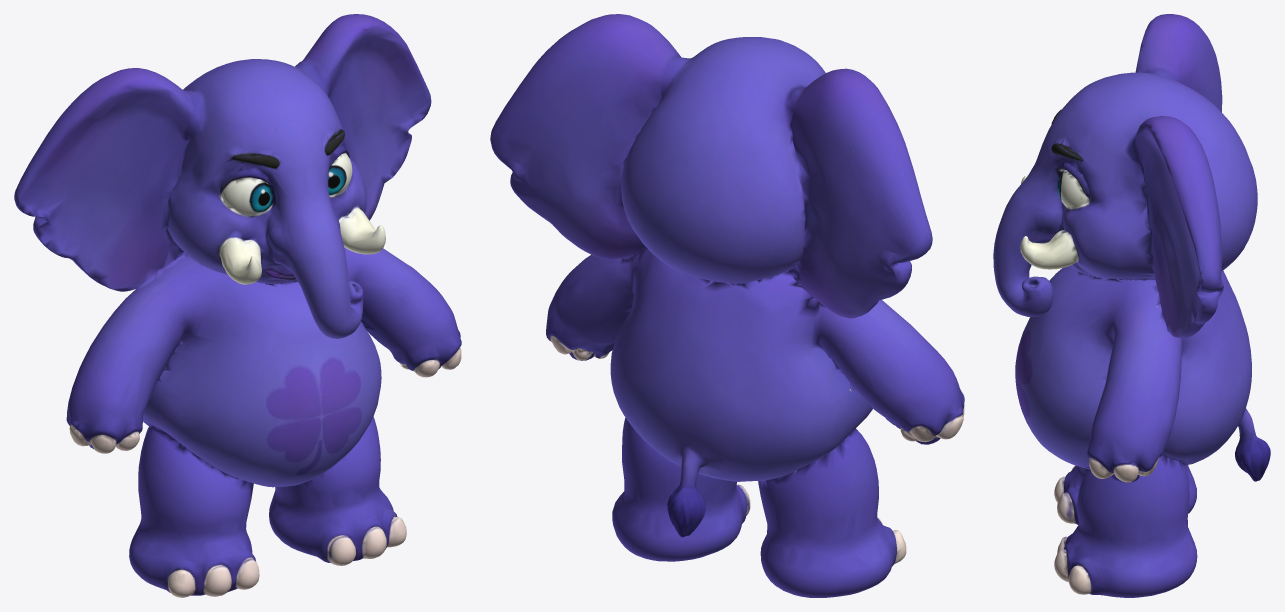
The model's file is king-rico-toy.glb.
3 views of the same model, side by side, from view 1: azimuth 30°, elevation 25°; view 2: azimuth 150°, elevation 25°; view 3: azimuth 270°, elevation 25° (orthographic). The views are drawn at different scales.
Size of the model in its own units: 1.66 by 1.9 by 1.01.
1 material, 1 textured.
